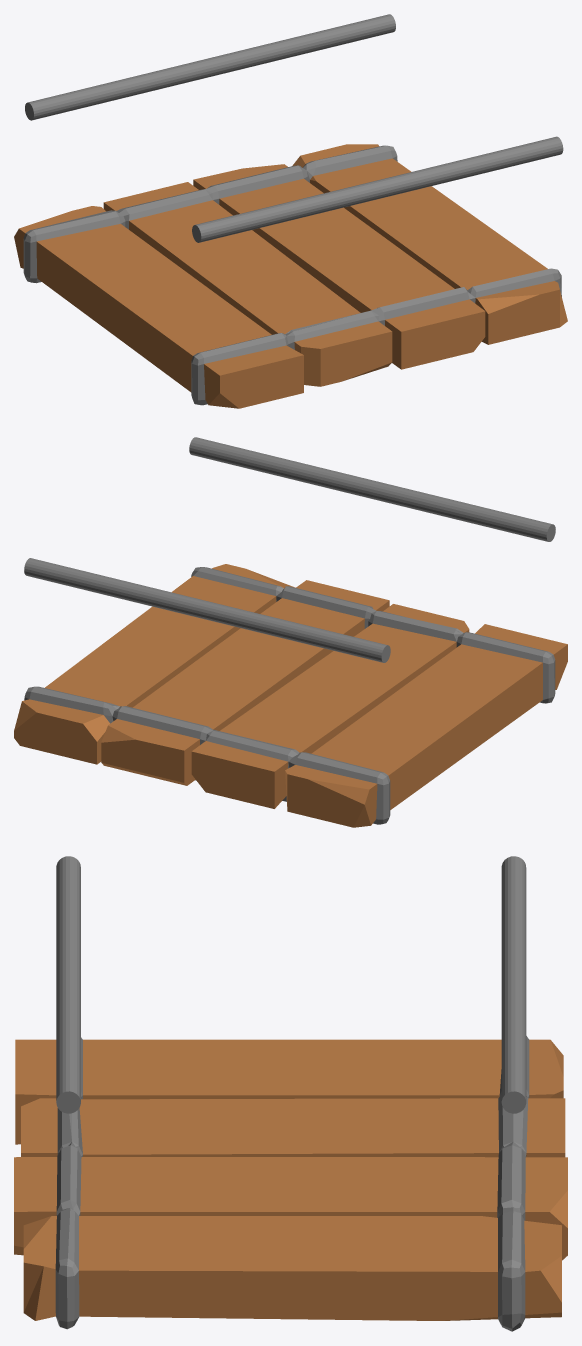
Rendered from BridgeMid.fbx.
3 renders of one model, top to bottom at view 1: azimuth 30°, elevation 25°; view 2: azimuth 150°, elevation 25°; view 3: azimuth 270°, elevation 25°, orthographic. The views are drawn at different scales.
Parts seen in each view (by area): view 1: Plane.003; view 2: Plane.003; view 3: Plane.003.
Boxes of the visible parts, box(x1,y1,x2,y2) form: Plane.003: box(14, 14, 567, 408); Plane.003: box(14, 437, 567, 827); Plane.003: box(14, 856, 567, 1331).
Size of the model in its own units: 103 by 48.95 by 99.53.
